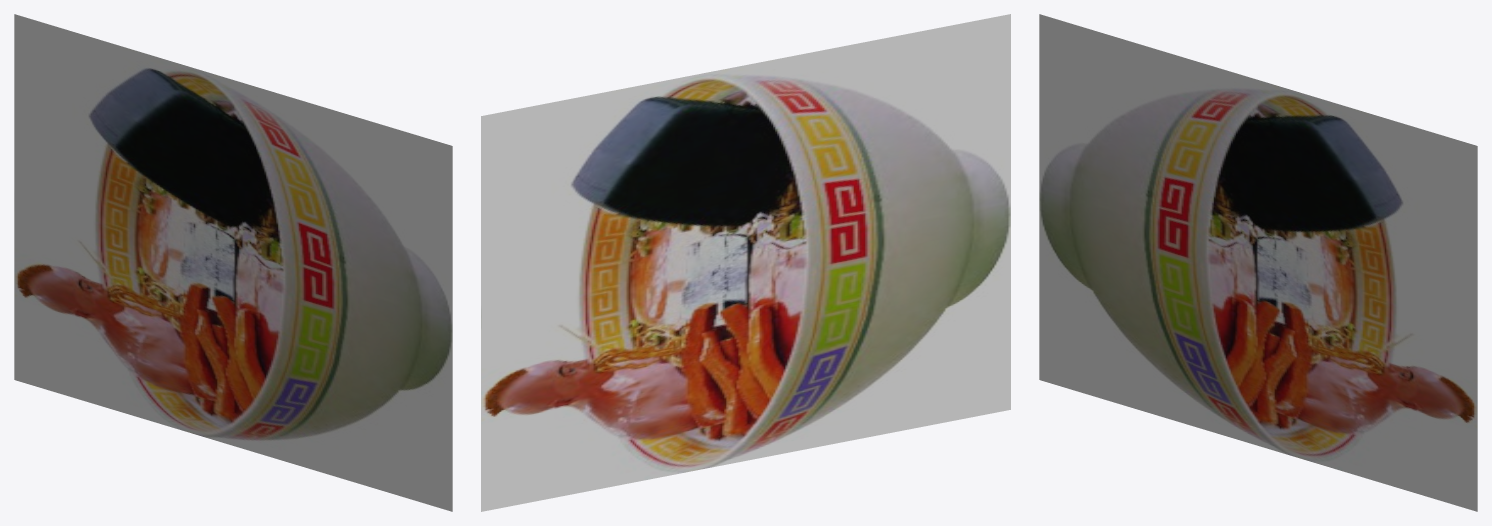
3 renders of one model, left to right at view 1: azimuth 90°, elevation 25°; view 2: azimuth 150°, elevation 25°; view 3: azimuth 270°, elevation 25°, orthographic. The views are drawn at different scales.
Visible parts, largest first — view 1: Plane.020; view 2: Plane.020; view 3: Plane.020.
Boxes of the visible parts, x1=… form: Plane.020: x1=14, y1=14, x2=452, y2=511; Plane.020: x1=481, y1=14, x2=1010, y2=511; Plane.020: x1=1039, y1=14, x2=1477, y2=511.
Bounding box in the file's own units: 2.32 × 3 × 3.26.
1 material, 1 textured.
